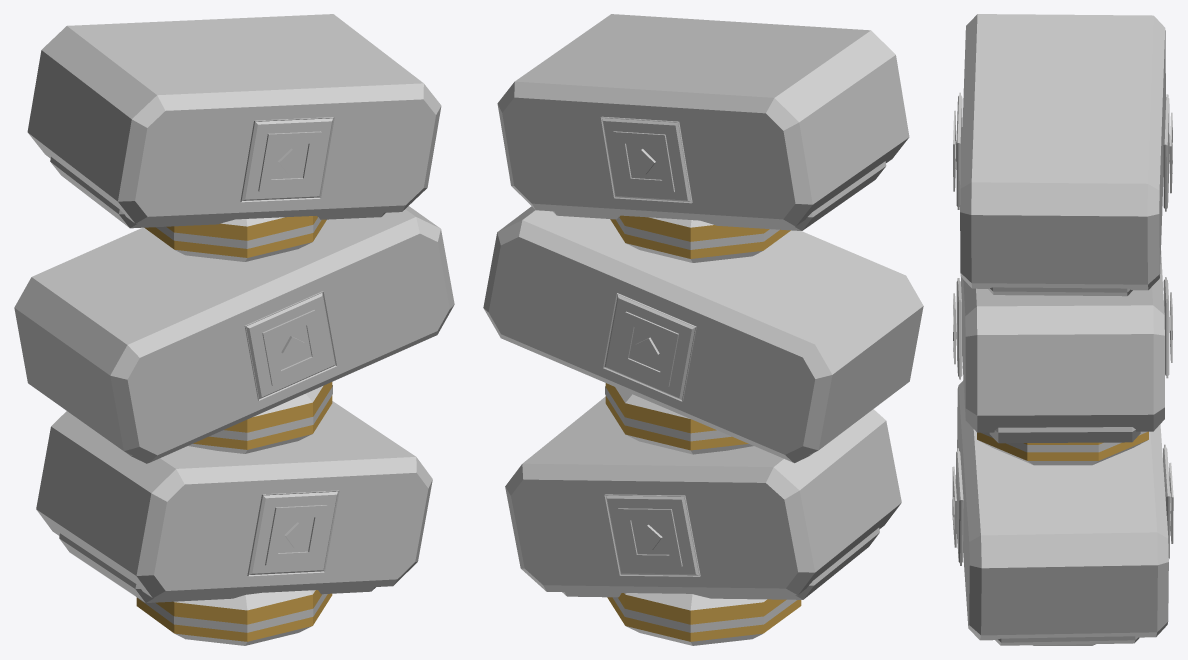
Rendered from wand_motion_11.obj.
3 renders of one model, left to right at view 1: azimuth 30°, elevation 25°; view 2: azimuth 150°, elevation 25°; view 3: azimuth 270°, elevation 25°, orthographic. The views are drawn at different scales.
Parts seen in each view (by area): view 1: chamfered_seal_tablet_2, chamfered_seal_tablet_1, chamfered_seal_tablet_0, tablet_spacer_0, inset_rune_socket_5, inset_rune_socket_3, tablet_spacer_2, inset_rune_socket_1, tablet_spacer_1, seal_shadow_base_0, seal_shadow_base_2, tablet_spacer_dark_seam_0 (+2 smaller); view 2: chamfered_seal_tablet_2, chamfered_seal_tablet_1, chamfered_seal_tablet_0, tablet_spacer_0, inset_rune_socket_0, inset_rune_socket_2, inset_rune_socket_4, tablet_spacer_2, tablet_spacer_1, seal_shadow_base_2, seal_shadow_base_0, tablet_spacer_dark_seam_0 (+2 smaller); view 3: chamfered_seal_tablet_2, chamfered_seal_tablet_0, chamfered_seal_tablet_1, seal_shadow_base_1, tablet_spacer_1, seal_shadow_base_2, seal_shadow_base_0, tablet_spacer_dark_seam_1, inset_rune_socket_1, inset_rune_socket_4, inset_rune_socket_5, inset_rune_socket_3 (+2 smaller).
Part boxes in pixels (bbox=[...]): chamfered_seal_tablet_2: bbox=[27, 14, 441, 223]; chamfered_seal_tablet_1: bbox=[14, 206, 454, 462]; chamfered_seal_tablet_0: bbox=[36, 401, 432, 598]; tablet_spacer_0: bbox=[136, 590, 332, 645]; inset_rune_socket_5: bbox=[240, 117, 334, 202]; inset_rune_socket_3: bbox=[244, 291, 336, 400]; tablet_spacer_2: bbox=[144, 216, 326, 261]; inset_rune_socket_1: bbox=[247, 490, 339, 576]; tablet_spacer_1: bbox=[188, 382, 332, 453]; seal_shadow_base_0: bbox=[59, 533, 375, 602]; seal_shadow_base_2: bbox=[50, 157, 385, 228]; tablet_spacer_dark_seam_0: bbox=[137, 594, 327, 632]; chamfered_seal_tablet_2: bbox=[497, 14, 909, 226]; chamfered_seal_tablet_1: bbox=[483, 206, 923, 462]; chamfered_seal_tablet_0: bbox=[505, 396, 901, 595]; tablet_spacer_0: bbox=[607, 593, 801, 645]; inset_rune_socket_0: bbox=[604, 494, 700, 576]; inset_rune_socket_2: bbox=[603, 293, 696, 401]; inset_rune_socket_4: bbox=[600, 116, 692, 203]; tablet_spacer_2: bbox=[610, 215, 790, 262]; tablet_spacer_1: bbox=[605, 383, 753, 454]; seal_shadow_base_2: bbox=[553, 161, 886, 230]; seal_shadow_base_0: bbox=[562, 528, 879, 599]; tablet_spacer_dark_seam_0: bbox=[612, 597, 796, 632]; chamfered_seal_tablet_2: bbox=[960, 14, 1165, 290]; chamfered_seal_tablet_0: bbox=[957, 380, 1168, 640]; chamfered_seal_tablet_1: bbox=[961, 251, 1164, 432]; seal_shadow_base_1: bbox=[989, 427, 1140, 443]; tablet_spacer_1: bbox=[977, 431, 1148, 465]; seal_shadow_base_2: bbox=[988, 287, 1132, 296]; seal_shadow_base_0: bbox=[995, 636, 1139, 645]; tablet_spacer_dark_seam_1: bbox=[981, 431, 1147, 452]; inset_rune_socket_1: bbox=[955, 448, 963, 565]; inset_rune_socket_4: bbox=[1163, 94, 1169, 211]; inset_rune_socket_5: bbox=[956, 92, 962, 209]; inset_rune_socket_3: bbox=[956, 278, 962, 379].
Size of the model in its own units: 0.1965 by 0.3117 by 0.1145.
